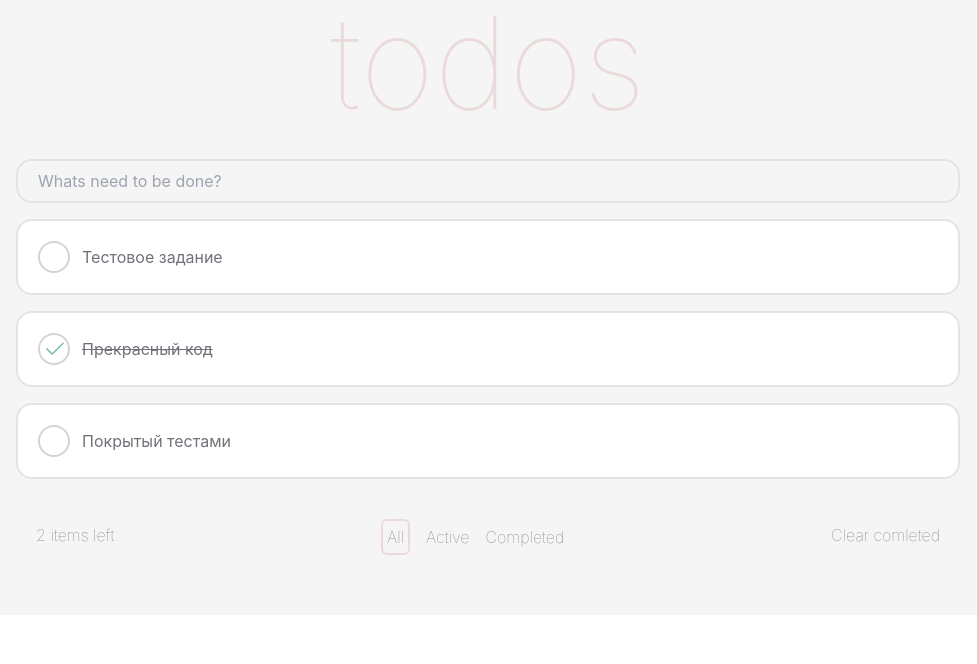
Test: input new todos
This screenshot has width=977, height=664.
In the field with placeholder "Whats need to be done?": (488, 181) [38, 169, 938, 193], type "New task n2"
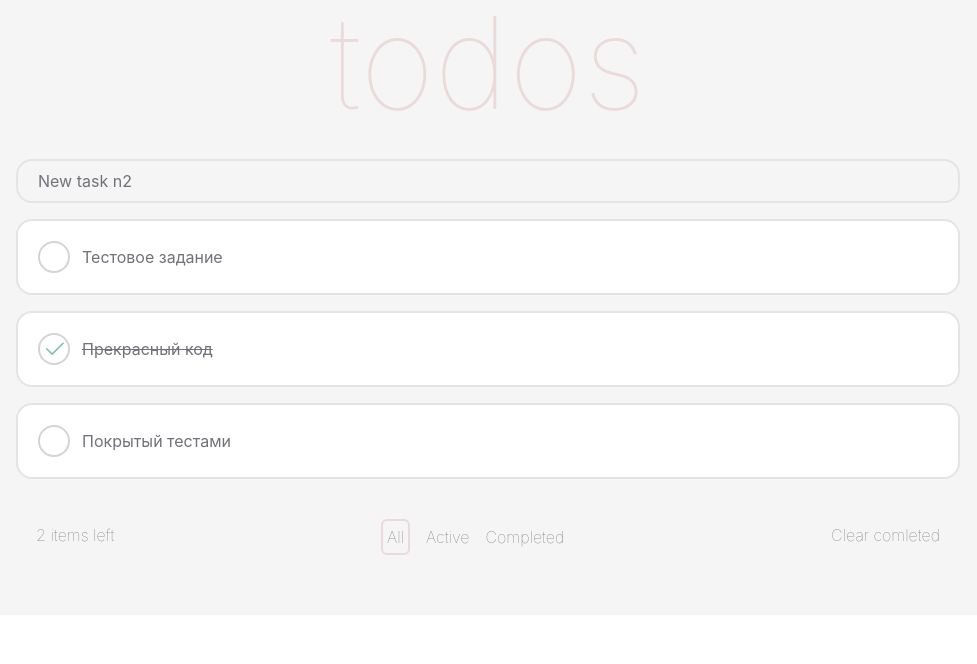
Press Enter in the field with placeholder "Whats need to be done?", box [38, 169, 938, 193]
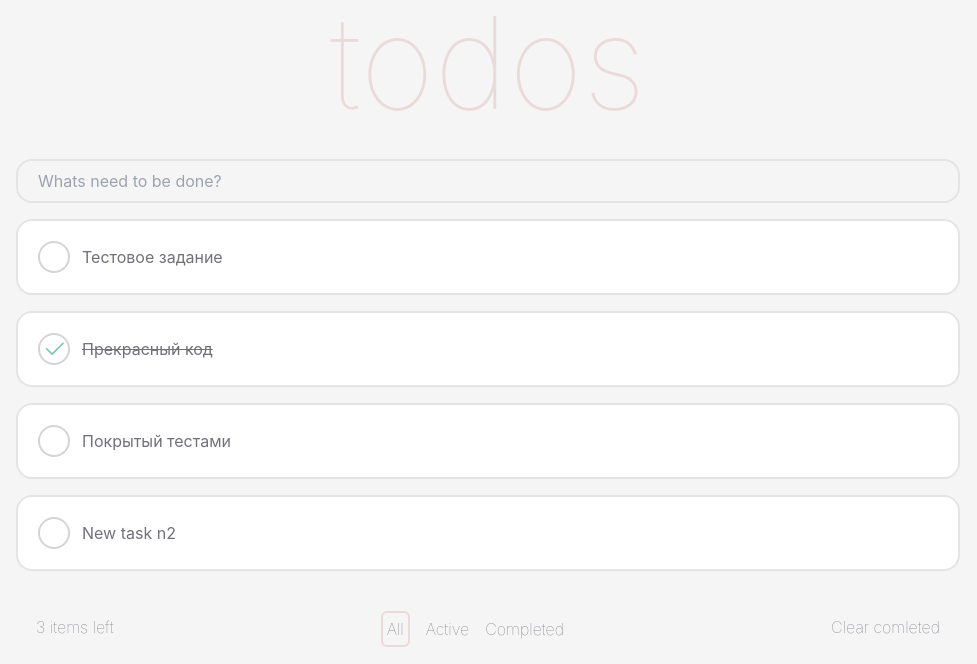
Expected: the text "New task n2" is shown, [82, 521, 176, 545]
Expected: the field with placeholder "Whats need to be done?" is empty, [38, 169, 938, 193]
